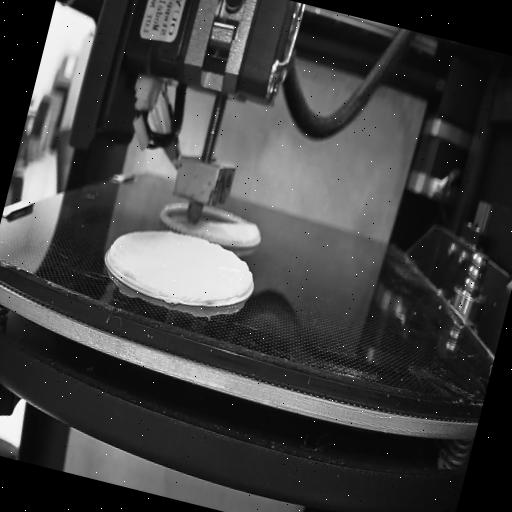over_extrusion: (101, 240, 144, 284), (228, 254, 260, 300)
